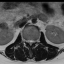CCS_normal: (29, 37, 31, 48)
LFS_normal: (34, 36, 36, 45)
LLS_normal: (31, 37, 34, 46)
RFS_normal: (24, 36, 27, 44)
RLS_normal: (27, 36, 29, 45)
